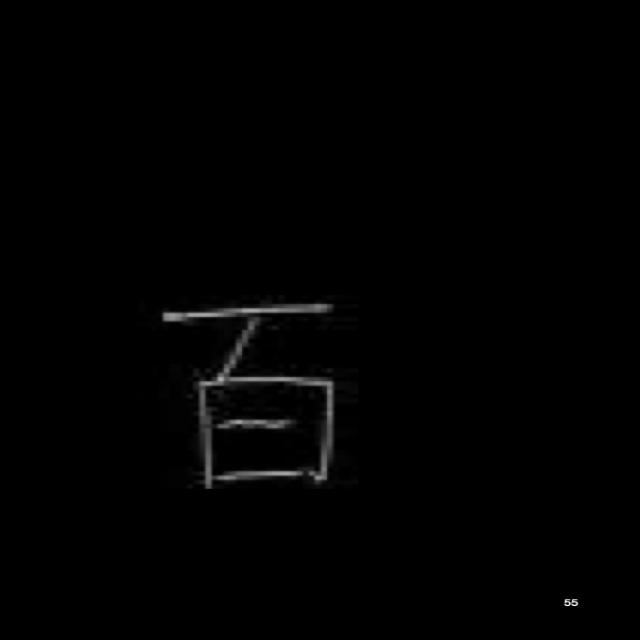100 -a hundred-: (132, 291, 352, 497)
